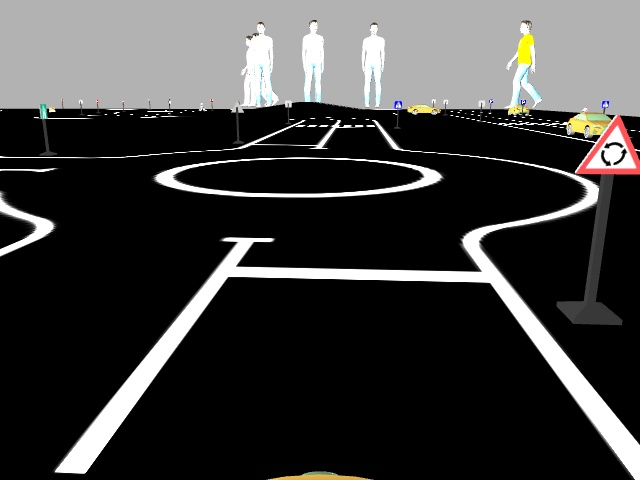Roundabout: (570, 116, 639, 176)
